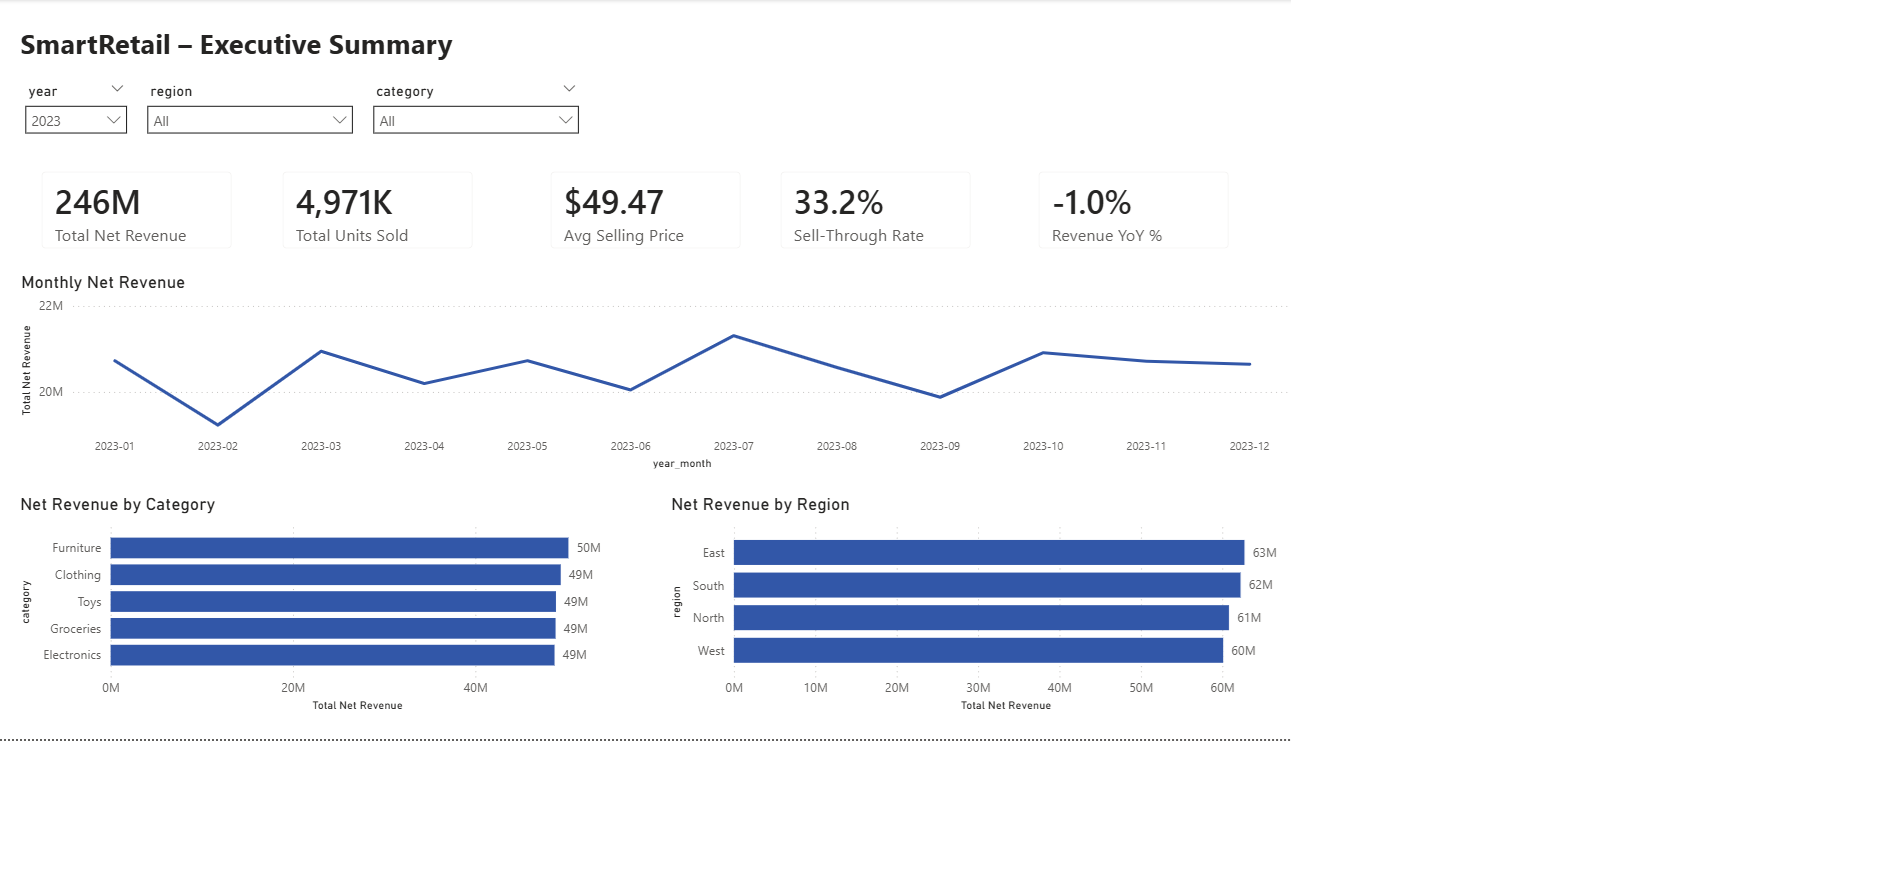

Layout of this report page (visuals, bound fields, positions):
{"tool":"powerbi","page":{"name":"Executive Summary","canvas":[1280,720],"ordinal":0},"visuals":[{"type":"cardVisual","fields":{"Data":["_Measures.Total Net Revenue"]},"box":[28.2,150.8,219.8,109.9],"z":0},{"type":"cardVisual","fields":{"Data":["_Measures.Total Units Sold"]},"box":[262.6,150.8,219.8,109.9],"z":1000},{"type":"cardVisual","fields":{"Data":["_Measures.Avg Selling Price"]},"box":[523.3,150.8,219.8,109.9],"z":2000},{"type":"cardVisual","fields":{"Data":["_Measures.Sell-Through Rate"]},"box":[747,150.8,219.8,109.9],"z":3000},{"type":"cardVisual","fields":{"Data":["_Measures.Revenue YoY %"]},"box":[997.9,150.8,219.8,109.9],"z":4000},{"type":"slicer","fields":{"Values":["dim_date.year"]},"box":[19.5,75.9,118.7,74.9],"z":5000},{"type":"textbox","box":[10,347.5,182,150],"z":6000},{"type":"textbox","box":[19.5,19.5,431.9,49.6],"z":7000},{"type":"lineChart","title":"Monthly Net Revenue","fields":{"Category":["dim_date.year_month"],"Y":["_Measures.Total Net Revenue"]},"box":[20.4,265.5,1245,196.5],"z":8000},{"type":"clusteredBarChart","title":"Net Revenue by Category","fields":{"Y":["_Measures.Total Net Revenue"],"Category":["fact_store_product_daily.category"]},"box":[19.5,481.5,590.4,215.9],"z":9000},{"type":"slicer","fields":{"Values":["fact_store_product_daily.region"]},"box":[138.1,75.9,219.8,67.1],"z":10000},{"type":"slicer","fields":{"Values":["fact_store_product_daily.category"]},"box":[357.9,75.9,219.8,67.1],"z":11000},{"type":"clusteredBarChart","title":"Net Revenue by Region","fields":{"Category":["fact_store_product_daily.region"],"Y":["_Measures.Total Net Revenue"]},"box":[652.6,481.5,612.8,215.9],"z":12000}]}

Visuals, with their boxes on the page's 1280x720 design canvas (x1, y1, x2, y2). These are canvas units, not pixel positions in the 1900x869 screenshot, which may show the page scaled, cropped or inside an application window:
cardVisual - _Measures.Total Net Revenue: (28,151,248,261)
cardVisual - _Measures.Total Units Sold: (263,151,482,261)
cardVisual - _Measures.Avg Selling Price: (523,151,743,261)
cardVisual - _Measures.Sell-Through Rate: (747,151,967,261)
cardVisual - _Measures.Revenue YoY %: (998,151,1218,261)
slicer - dim_date.year: (20,76,138,151)
textbox: (10,348,192,498)
textbox: (20,20,451,69)
"Monthly Net Revenue" lineChart: (20,266,1265,462)
"Net Revenue by Category" clusteredBarChart: (20,482,610,697)
slicer - fact_store_product_daily.region: (138,76,358,143)
slicer - fact_store_product_daily.category: (358,76,578,143)
"Net Revenue by Region" clusteredBarChart: (653,482,1265,697)
